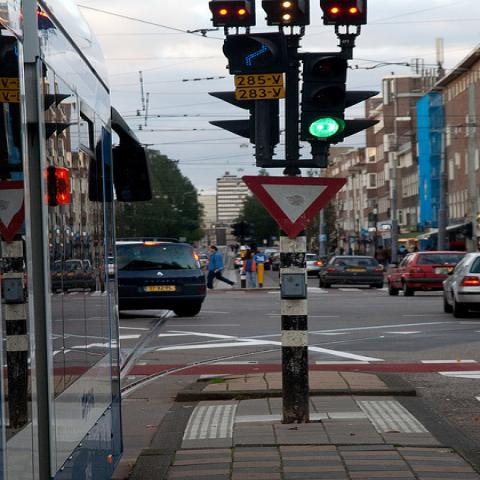car: (118, 240, 210, 318), (387, 251, 470, 296), (441, 251, 479, 318), (322, 256, 381, 284), (307, 253, 326, 276), (266, 252, 281, 270)
